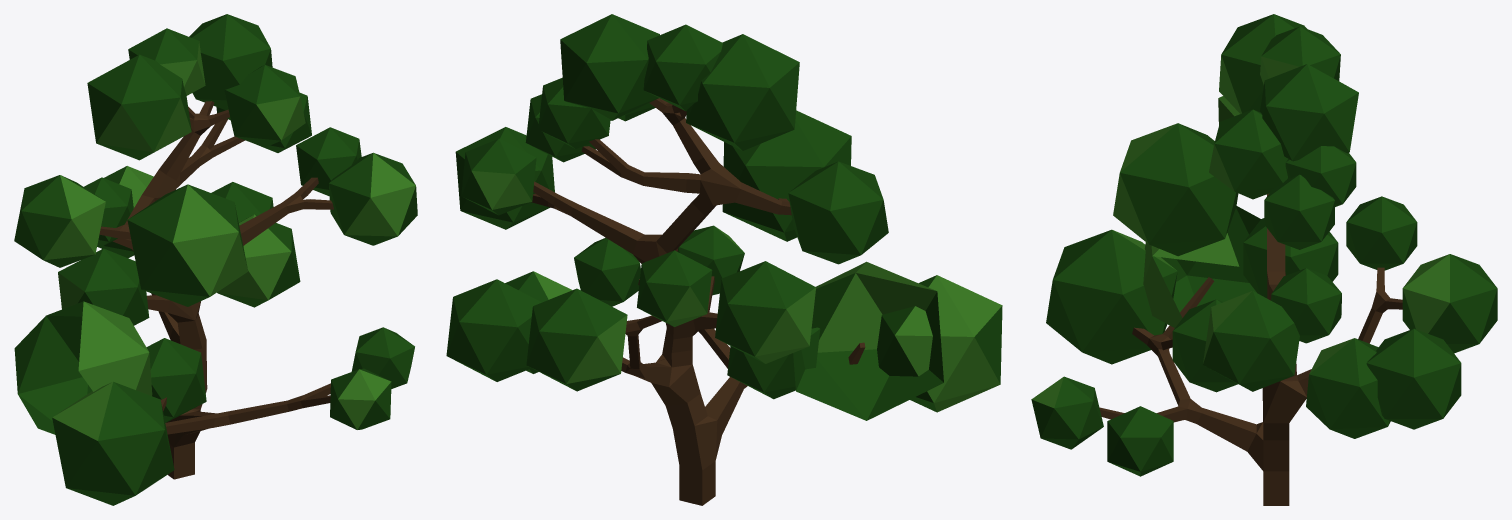
Rendered from BaumVerteilt.fbx.
The picture shows the model from 3 angles, left to right: view 1: azimuth 30°, elevation 25°; view 2: azimuth 150°, elevation 25°; view 3: azimuth 270°, elevation 25°; orthographic projection. The views are drawn at different scales.
Parts seen in each view (by area): view 1: Baum1; view 2: Baum1; view 3: Baum1.
Part boxes in pixels (x1=…): Baum1: x1=14, y1=14, x2=417, y2=505; Baum1: x1=446, y1=14, x2=1002, y2=505; Baum1: x1=1031, y1=14, x2=1497, y2=505.
Bounding box in the file's own units: 192 × 193 × 172.
